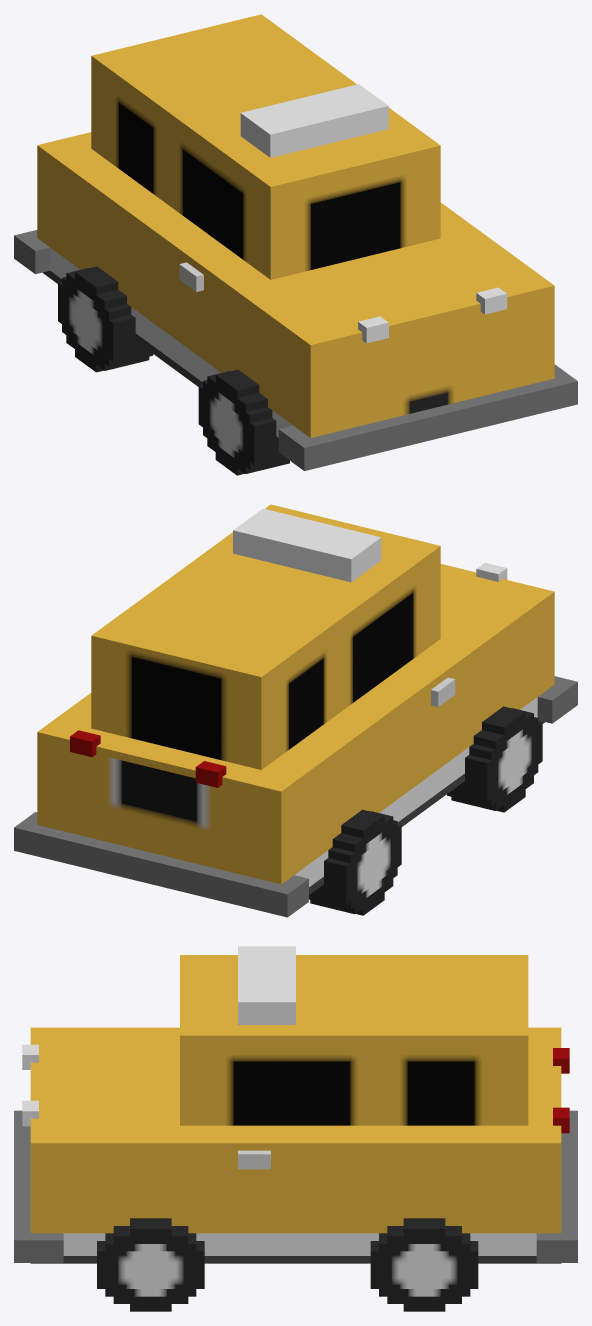
Rendered from car_taxi.fbx.
3 renders of one model, top to bottom at view 1: azimuth 30°, elevation 25°; view 2: azimuth 150°, elevation 25°; view 3: azimuth 270°, elevation 25°, orthographic. The views are drawn at different scales.
Parts seen in each view (by area): view 1: body, back_left_wheel, back_right_wheel; view 2: body, back_right_wheel, back_left_wheel; view 3: body, front_left_wheel, front_right_wheel.
Part boxes in pixels (x1=…): body: x1=14, y1=14, x2=577, y2=470; back_left_wheel: x1=58, y1=266, x2=153, y2=372; back_right_wheel: x1=198, y1=369, x2=289, y2=475; body: x1=14, y1=504, x2=577, y2=917; back_right_wheel: x1=447, y1=706, x2=542, y2=812; back_left_wheel: x1=309, y1=809, x2=401, y2=915; body: x1=14, y1=946, x2=577, y2=1263; front_left_wheel: x1=370, y1=1218, x2=478, y2=1311; front_right_wheel: x1=97, y1=1218, x2=204, y2=1311.
Bounding box in the file's own units: 39 × 36 × 68.
